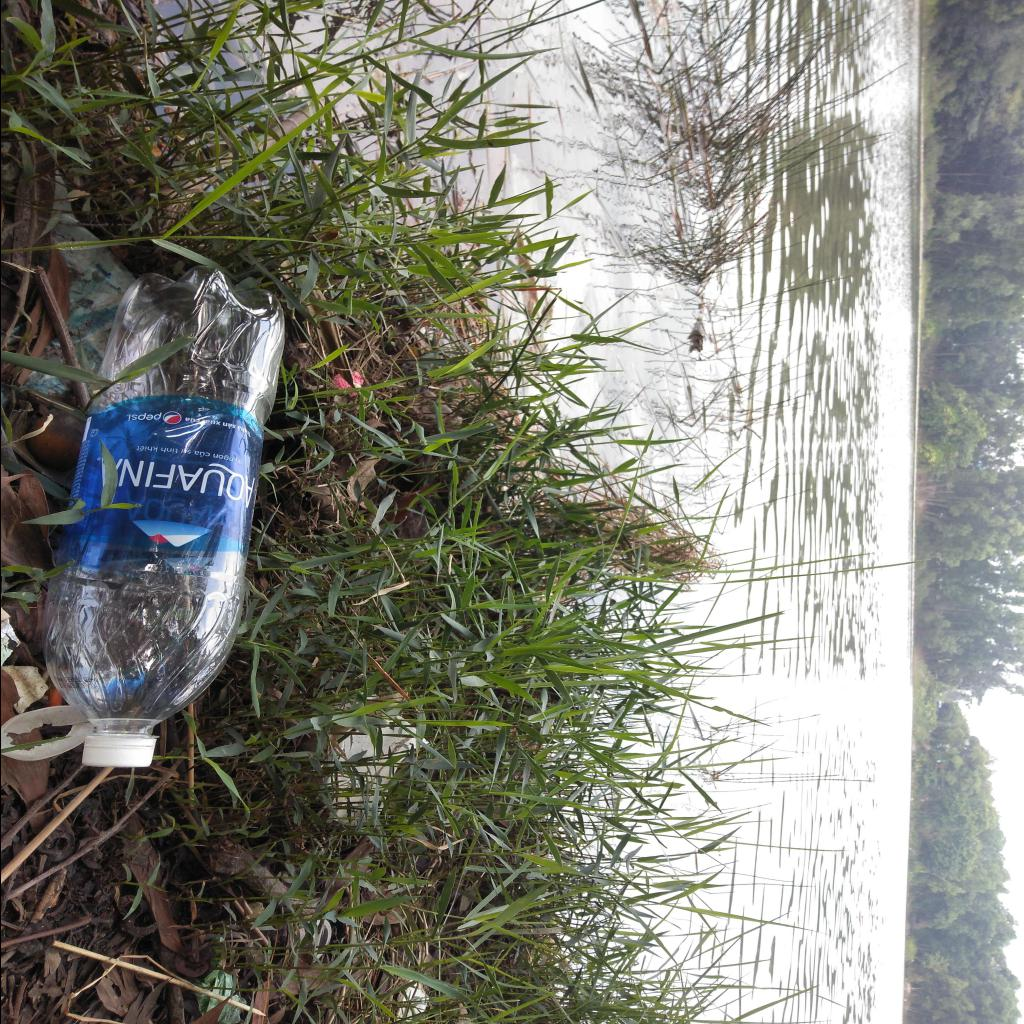Clear plastic bottle: (42, 266, 284, 768)
Other plastic bottle: (0, 706, 94, 762)
Plastic film: (21, 166, 136, 398)
Unlabeled litter: (320, 715, 428, 829), (298, 919, 330, 959)
